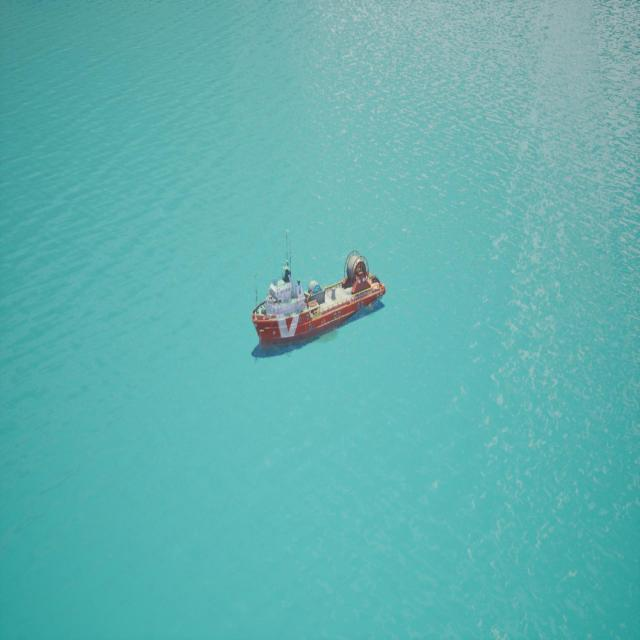tug boat: (253, 237, 387, 360)
